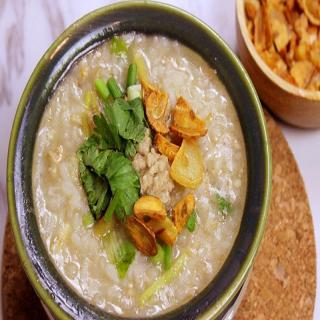boiled_rice: (21, 23, 252, 316)
carbs: (27, 66, 82, 284), (83, 250, 243, 320), (208, 58, 250, 275)
meat: (126, 123, 175, 210)
veg: (80, 85, 133, 246), (171, 91, 207, 190)
